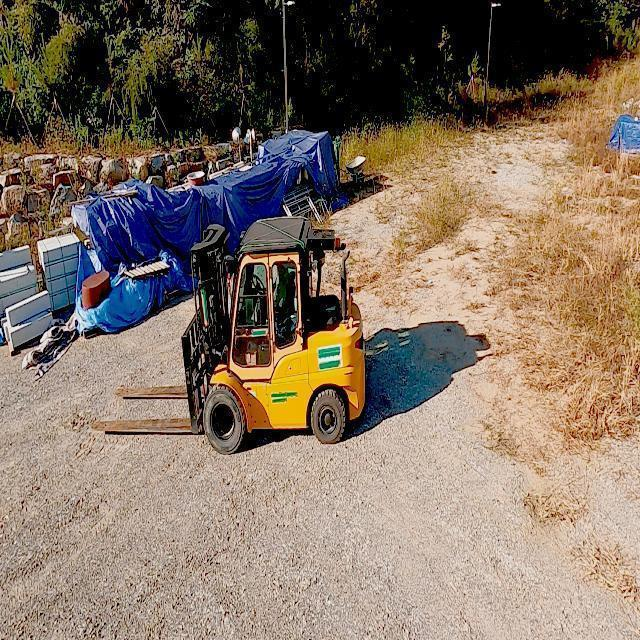forklift: (191, 221, 366, 448)
